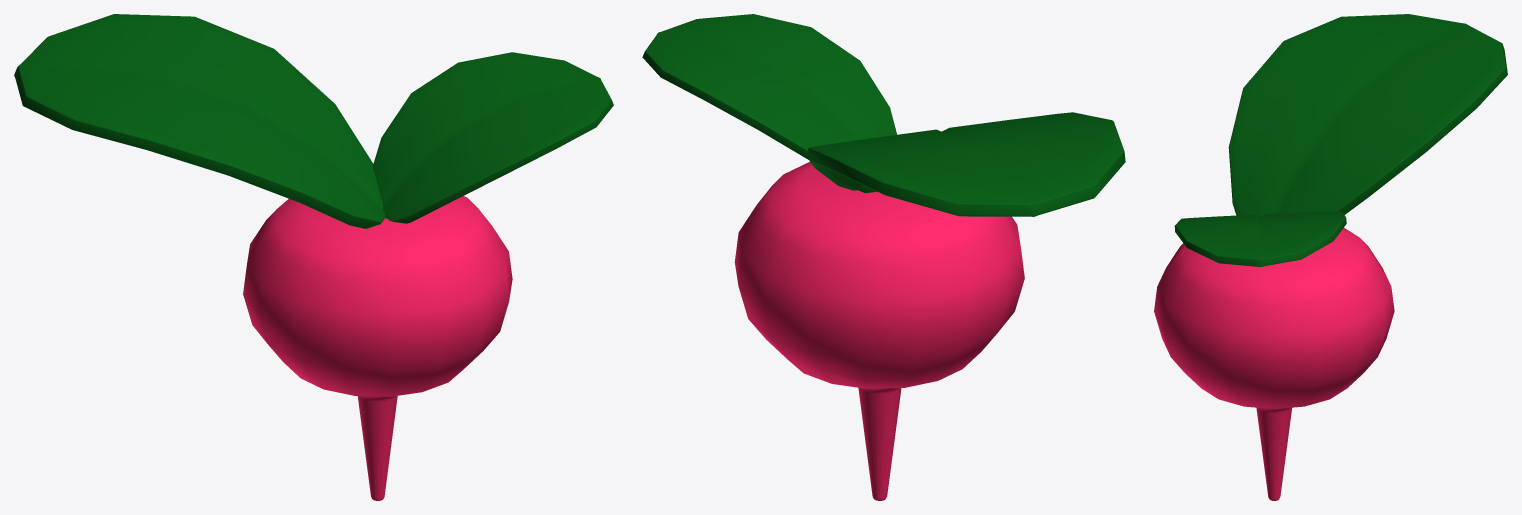
Rendered from Farm_1_Beet_1.glb.
The picture shows the model from 3 angles, left to right: view 1: azimuth 30°, elevation 25°; view 2: azimuth 150°, elevation 25°; view 3: azimuth 270°, elevation 25°; orthographic projection. The views are drawn at different scales.
Parts seen in each view (by area): view 1: Farm_1_Beet_1; view 2: Farm_1_Beet_1; view 3: Farm_1_Beet_1.
Boxes of the visible parts, left/top/right/bottom form: Farm_1_Beet_1: left=14, top=14, right=613, bottom=500; Farm_1_Beet_1: left=642, top=14, right=1125, bottom=500; Farm_1_Beet_1: left=1154, top=14, right=1507, bottom=500.
Size of the model in its own units: 0.52 by 0.4262 by 0.3643.
Materials: 1 (1 with a texture image).
